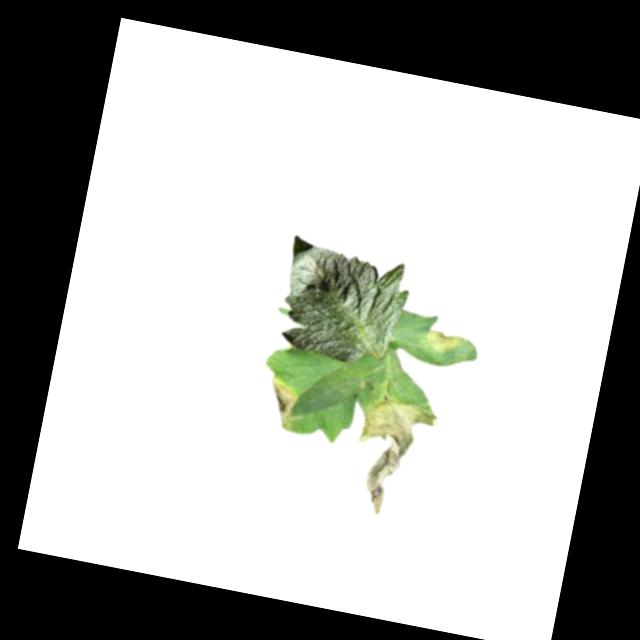Late_blight: (344, 393, 442, 526), (261, 376, 306, 431), (419, 321, 466, 360)
